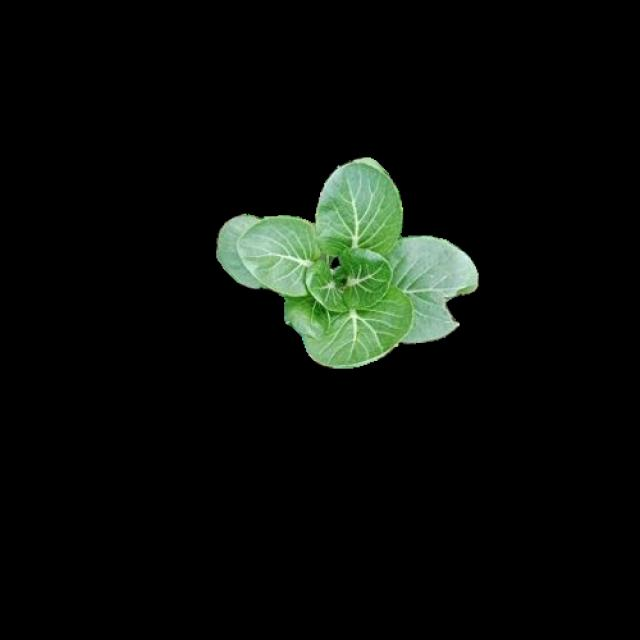not-mature: (219, 158, 479, 368)
unhealthy: (403, 234, 478, 342)
